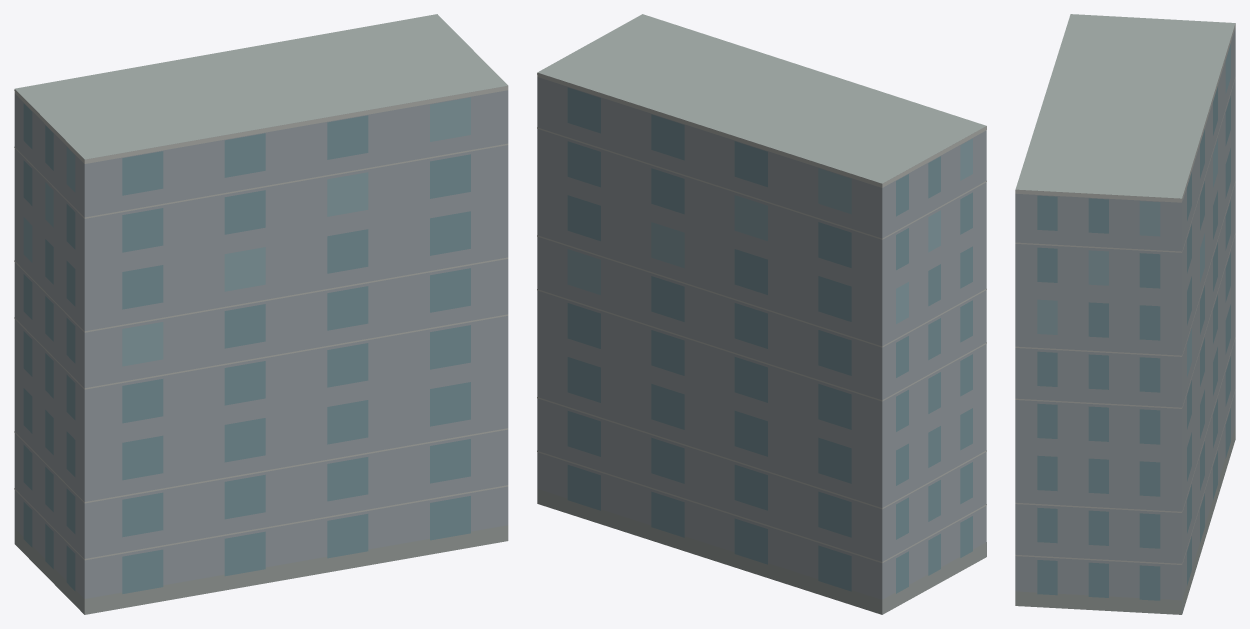
The model's file is residential-ac72fd11-9c1f-44df-8418-fd33652c5880.glb.
3 views of the same model, side by side, from view 1: azimuth 30°, elevation 25°; view 2: azimuth 150°, elevation 25°; view 3: azimuth 270°, elevation 25° (orthographic). The views are drawn at different scales.
Parts seen in each view (by area): view 1: residential-ac72fd11-9c1f-44df-8418-fd33652c5880.tmp; view 2: residential-ac72fd11-9c1f-44df-8418-fd33652c5880.tmp; view 3: residential-ac72fd11-9c1f-44df-8418-fd33652c5880.tmp.
Part boxes in pixels (x1,y1,x2,y2): residential-ac72fd11-9c1f-44df-8418-fd33652c5880.tmp: (14, 14, 508, 614); residential-ac72fd11-9c1f-44df-8418-fd33652c5880.tmp: (537, 14, 986, 614); residential-ac72fd11-9c1f-44df-8418-fd33652c5880.tmp: (1015, 14, 1235, 614).
Bounding box in the file's own units: 23.23 × 24.4 × 11.72.
